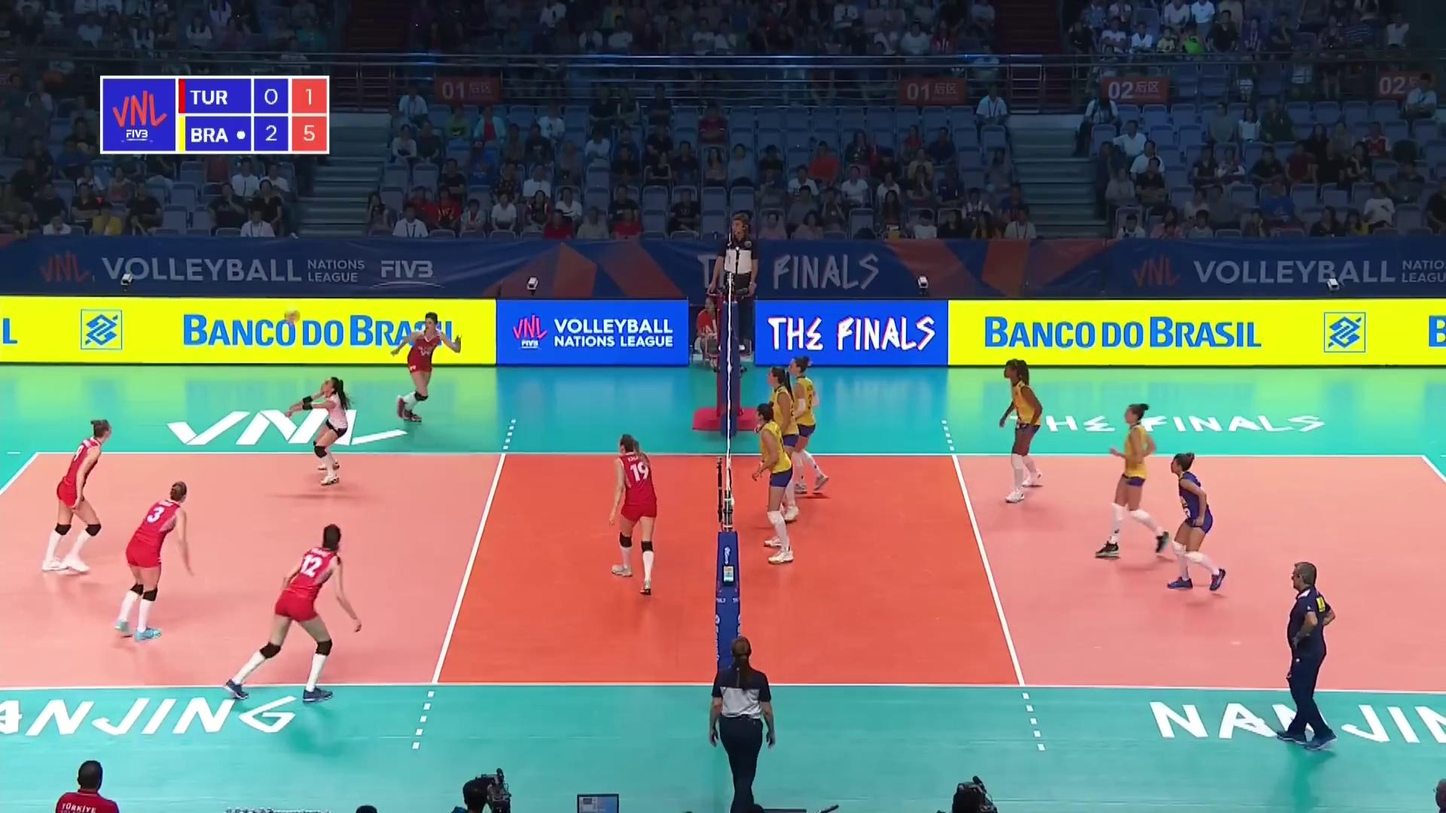player: (227, 529, 367, 713), (113, 482, 193, 638), (37, 422, 108, 579), (756, 402, 820, 566), (1101, 405, 1164, 562), (1166, 457, 1230, 597), (996, 359, 1058, 503), (605, 435, 666, 579), (771, 355, 832, 496), (757, 363, 804, 527), (293, 376, 358, 494), (391, 317, 453, 431)
refree: (709, 641, 776, 811), (709, 211, 760, 363)
